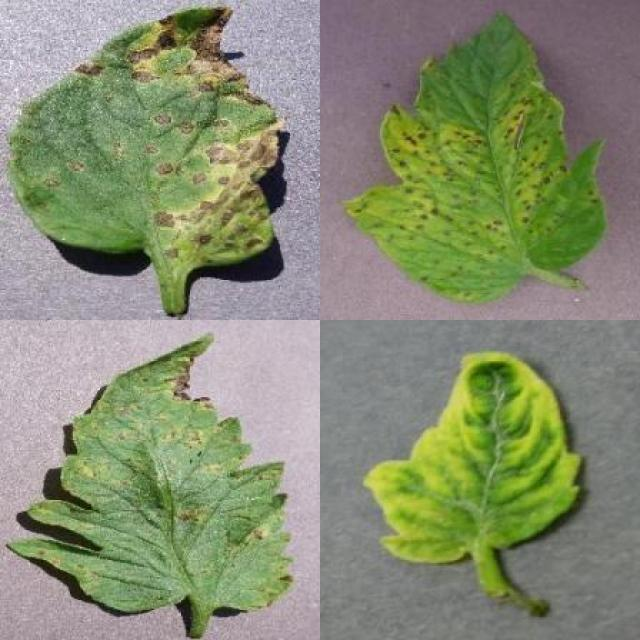Septoria: (6, 332, 294, 615), (344, 14, 610, 305), (10, 7, 280, 270)
Yellow Leaf Curl Virus: (364, 352, 582, 564)
